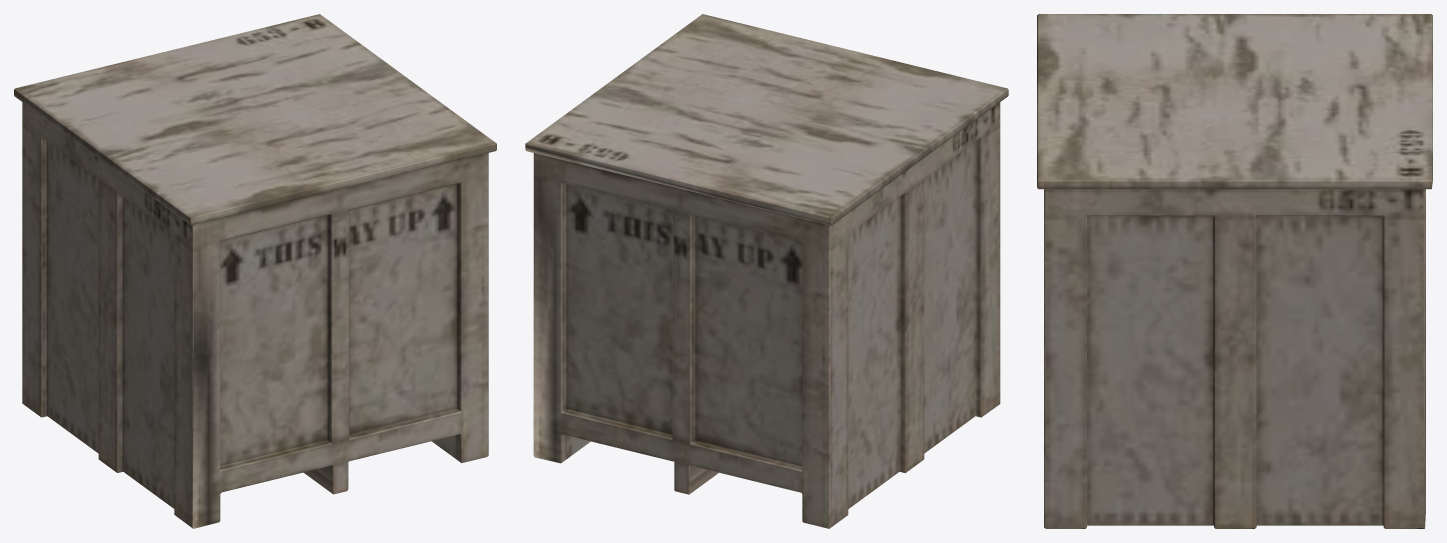
The model's file is wooden_crate_a_red.glb.
3 views of the same model, side by side, from view 1: azimuth 30°, elevation 25°; view 2: azimuth 150°, elevation 25°; view 3: azimuth 270°, elevation 25° (orthographic). The views are drawn at different scales.
Parts seen in each view (by area): view 1: wooden_crate_a_red; view 2: wooden_crate_a_red; view 3: wooden_crate_a_red.
Part boxes in pixels (x1=…): wooden_crate_a_red: x1=14, y1=14, x2=496, y2=528; wooden_crate_a_red: x1=525, y1=14, x2=1008, y2=528; wooden_crate_a_red: x1=1037, y1=14, x2=1432, y2=528.
Size of the model in its own units: 1.04 by 1.02 by 1.04.
1 material, 1 textured.
